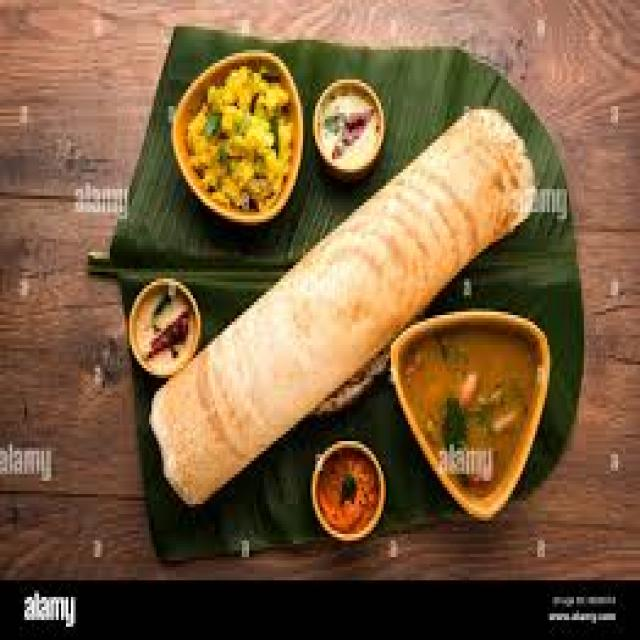IDLI: (143, 106, 535, 509)
